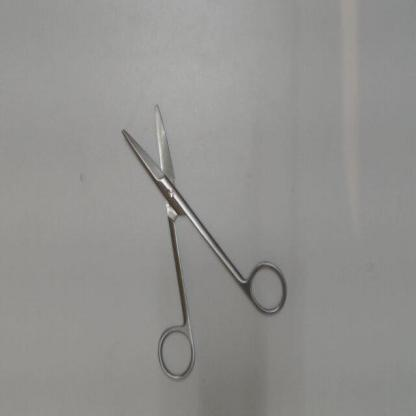Curved Mayo Scissors: (114, 91, 294, 386)
